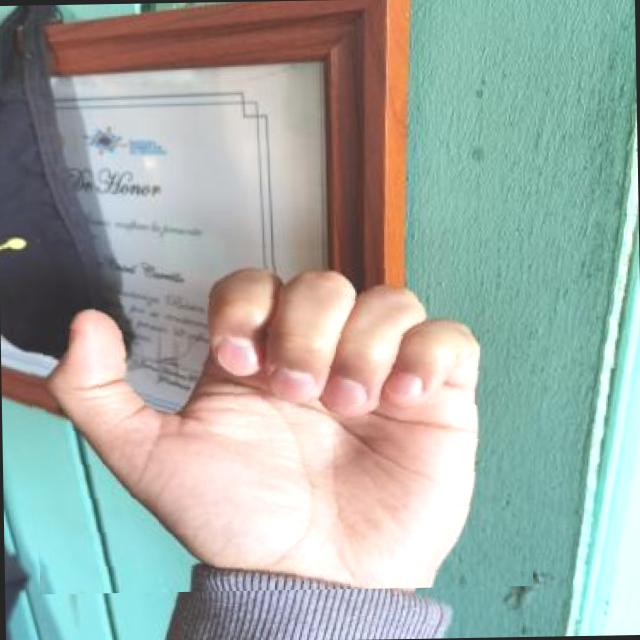E: (24, 234, 532, 594)
